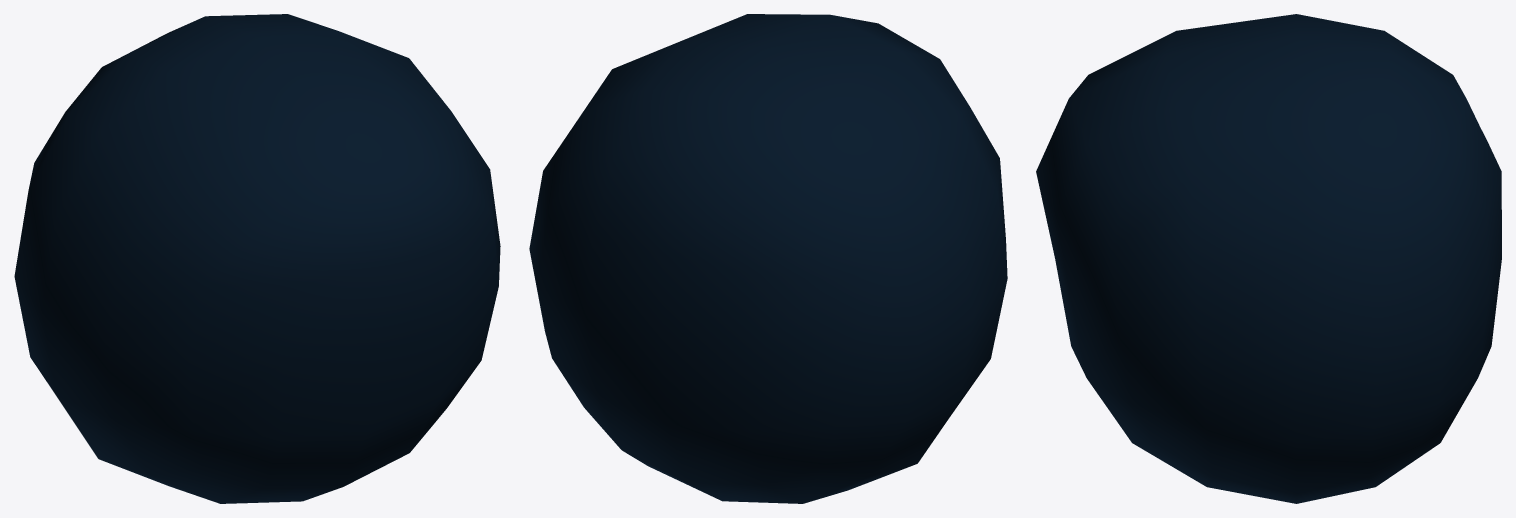
Rendered from mesh_hair_02.fbx.
3 renders of one model, left to right at view 1: azimuth 30°, elevation 25°; view 2: azimuth 150°, elevation 25°; view 3: azimuth 270°, elevation 25°, orthographic.
Parts seen in each view (by area): view 1: pCube1; view 2: pCube1; view 3: pCube1.
Boxes of the visible parts, x1,y1,x2,y2 form: pCube1: (14, 14, 500, 503); pCube1: (529, 14, 1007, 503); pCube1: (1036, 14, 1501, 503).
Bounding box in the file's own units: 8.27 × 8.27 × 7.98.
